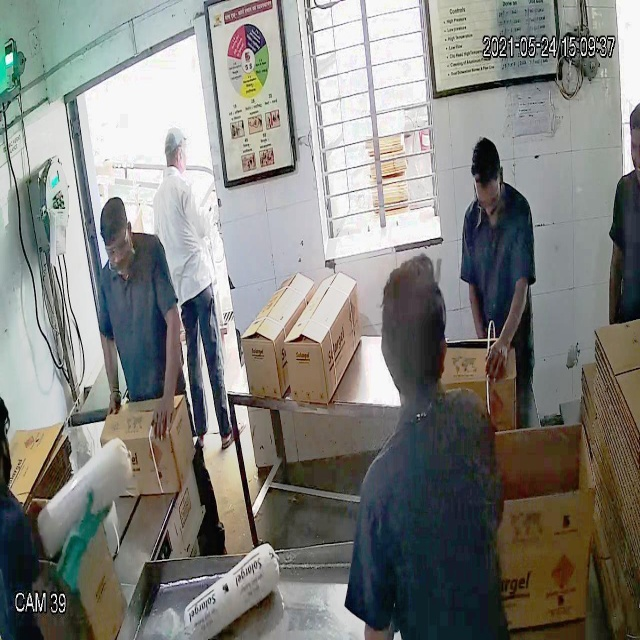Gafas: (100, 224, 132, 260)
